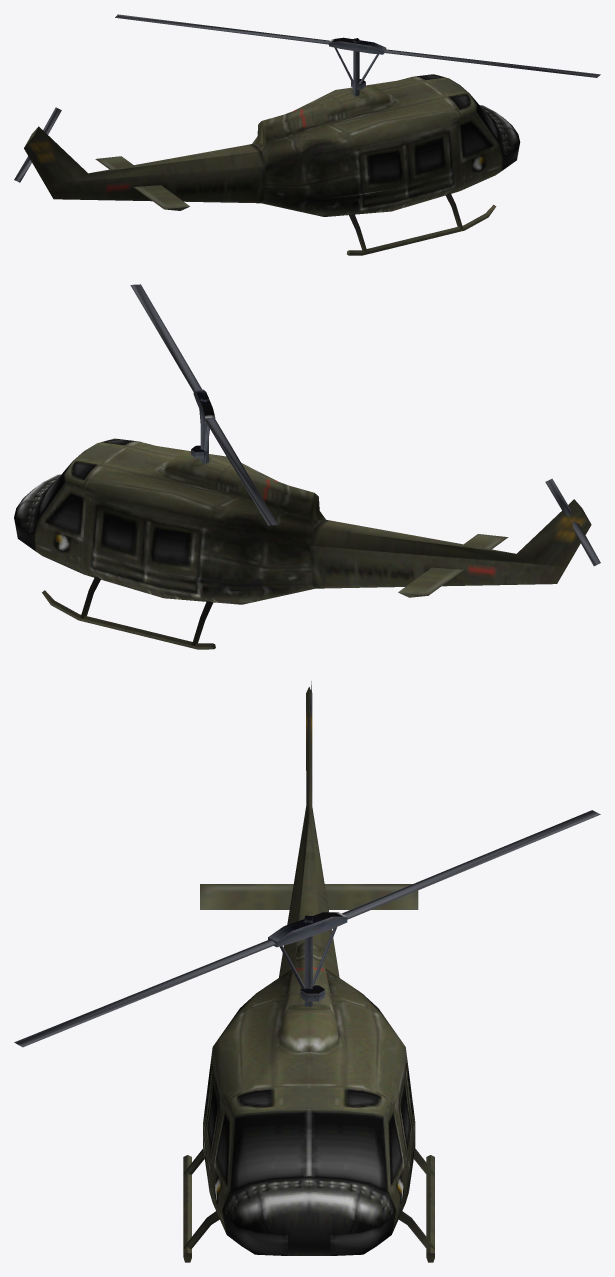
The model's file is storm.ico.obj.
3 renders of one model, top to bottom at view 1: azimuth 30°, elevation 25°; view 2: azimuth 150°, elevation 25°; view 3: azimuth 270°, elevation 25°, orthographic. The views are drawn at different scales.
Size of the model in its own units: 4.93 by 1.75 by 3.19.
1 material, 1 textured.
